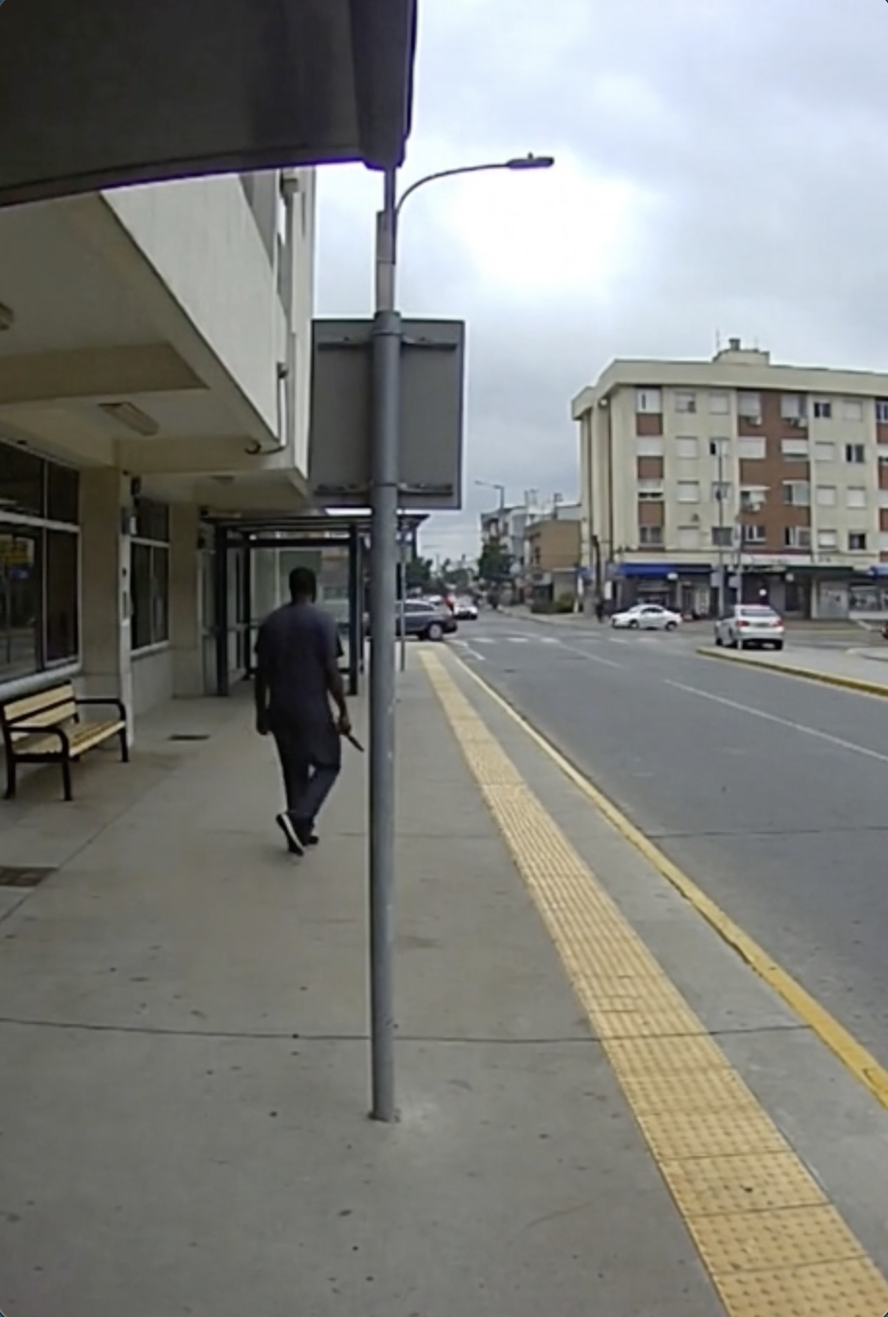Heavy Gun: (254, 560, 360, 855)
Knife: (329, 715, 375, 760)
